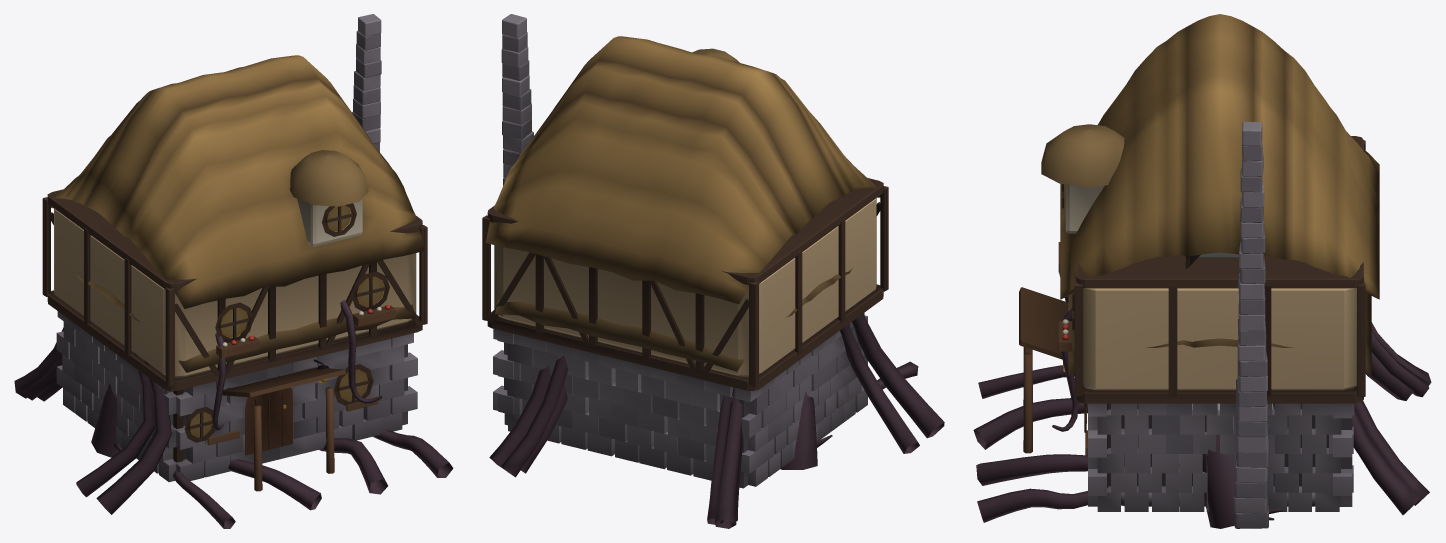
The model's file is village.glb.
The picture shows the model from 3 angles, left to right: view 1: azimuth 30°, elevation 25°; view 2: azimuth 150°, elevation 25°; view 3: azimuth 270°, elevation 25°; orthographic projection. The views are drawn at different scales.
Parts seen in each view (by area): view 1: lodge, cottage_mid, ground_roots, root_arch, cottage_slate; view 2: lodge, cottage_mid, cottage_slate, root_arch, cottage_small; view 3: lodge, ground_roots, cottage_mid, root_arch, cottage_slate, cottage_small.
Boxes of the visible parts, left/top/right/bottom form: lodge: left=42, top=14, right=427, bottom=514; cottage_mid: left=14, top=275, right=415, bottom=462; ground_roots: left=173, top=430, right=453, bottom=528; root_arch: left=91, top=383, right=122, bottom=457; cottage_slate: left=22, top=354, right=62, bottom=400; lodge: left=482, top=14, right=944, bottom=488; cottage_mid: left=495, top=268, right=852, bottom=528; cottage_slate: left=489, top=365, right=742, bottom=521; root_arch: left=780, top=391, right=832, bottom=469; cottage_small: left=521, top=382, right=567, bottom=473; lodge: left=1019, top=14, right=1379, bottom=528; ground_roots: left=973, top=365, right=1087, bottom=522; cottage_mid: left=1052, top=272, right=1431, bottom=506; root_arch: left=1202, top=415, right=1283, bottom=528; cottage_slate: left=1352, top=393, right=1420, bottom=515; cottage_small: left=1185, top=252, right=1413, bottom=400.
Size of the model in its own units: 8.66 by 8.73 by 8.59.
